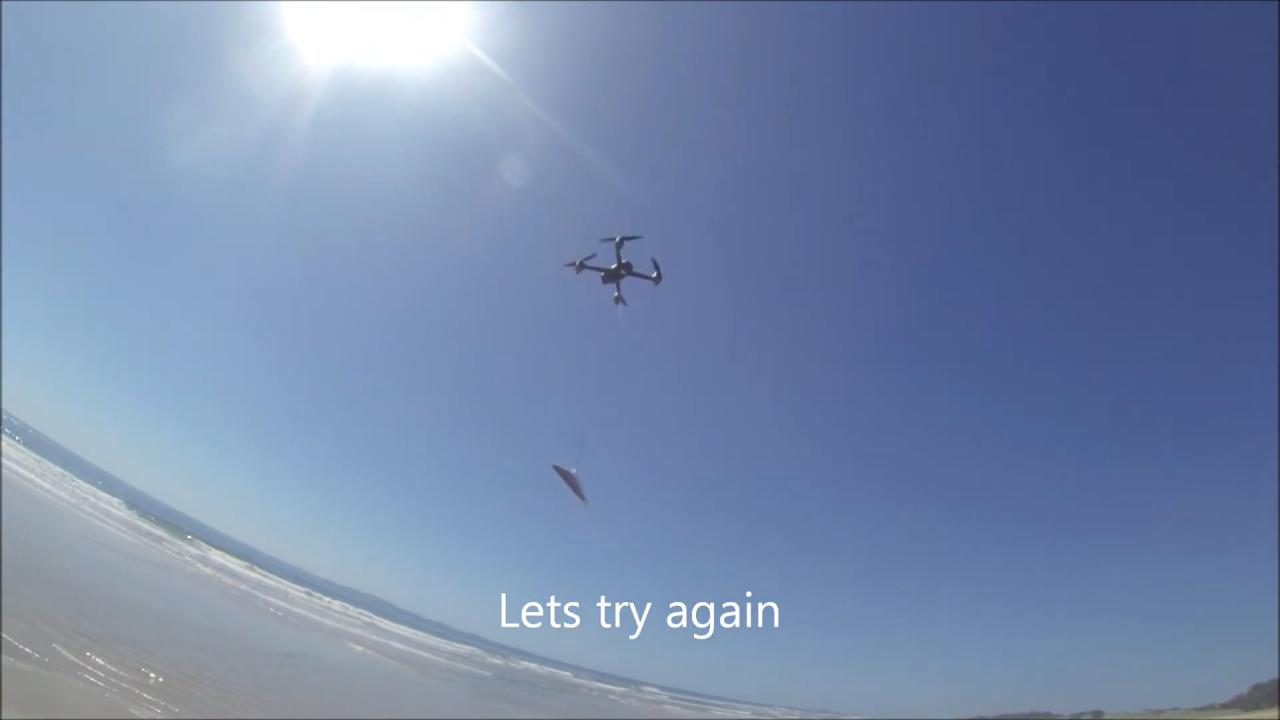Drone: (560, 222, 670, 317)
